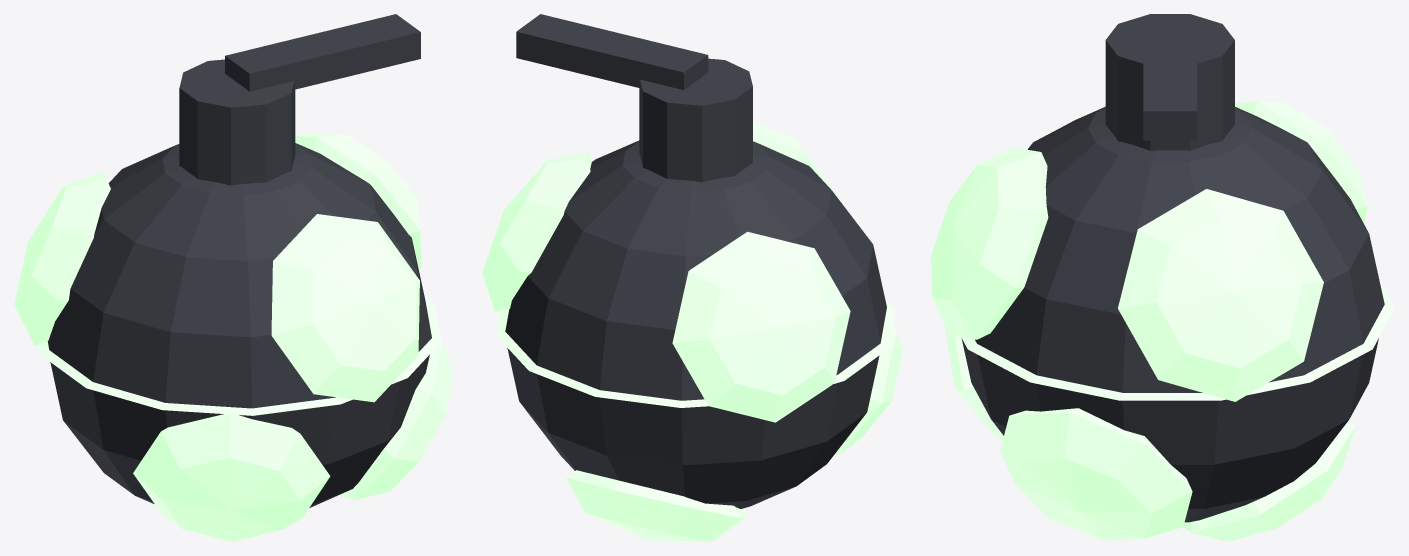
Rendered from GrenadeSticky.fbx.
3 views of the same model, side by side, from view 1: azimuth 30°, elevation 25°; view 2: azimuth 150°, elevation 25°; view 3: azimuth 270°, elevation 25° (orthographic). The views are drawn at different scales.
Visible parts, largest first — view 1: GrenadeSticky; view 2: GrenadeSticky; view 3: GrenadeSticky.
Boxes of the visible parts, x1=… form: GrenadeSticky: x1=14, y1=14, x2=453, y2=541; GrenadeSticky: x1=482, y1=14, x2=902, y2=541; GrenadeSticky: x1=931, y1=14, x2=1394, y2=541.
Size of the model in its own units: 0.0853 by 0.1041 by 0.0862.
